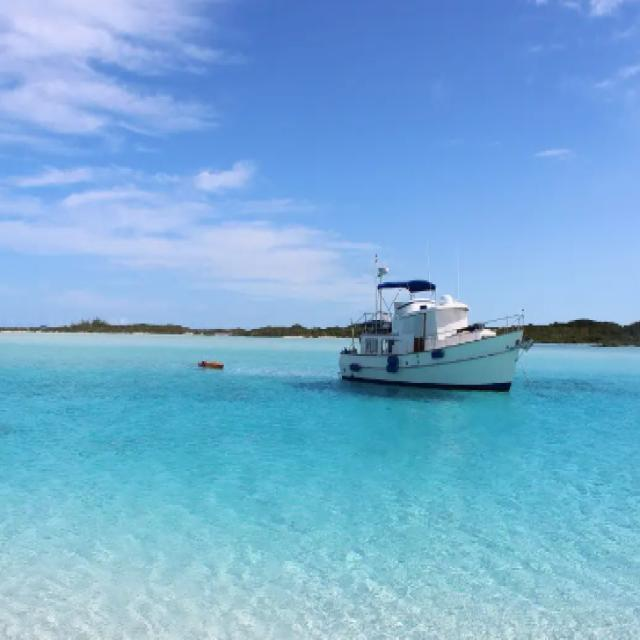houseboat: (342, 253, 527, 387)
